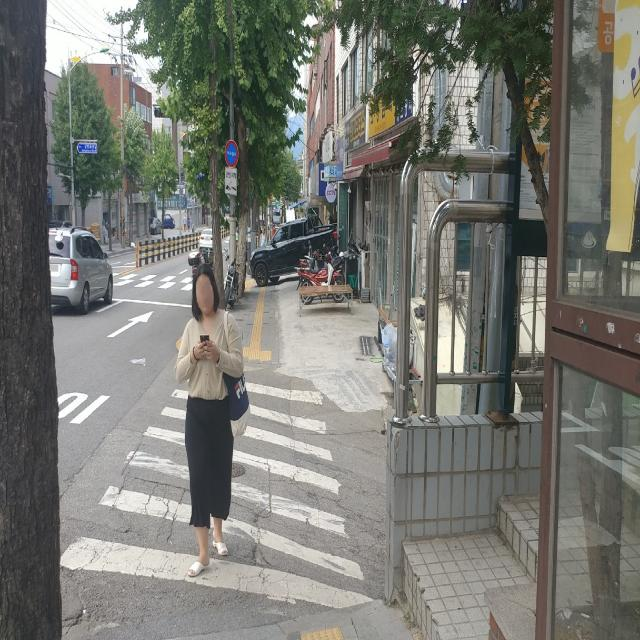횡단보도: (59, 378, 373, 609)
